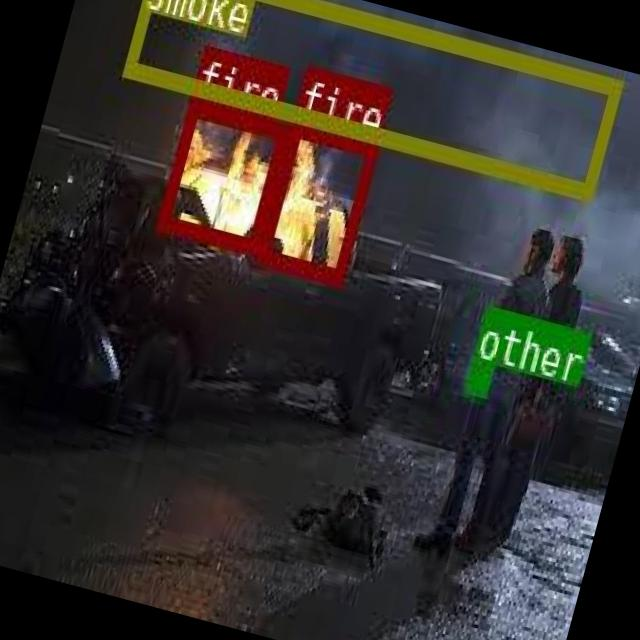fire: (154, 96, 289, 250), (254, 118, 376, 282)
smoke: (120, 0, 621, 198)
